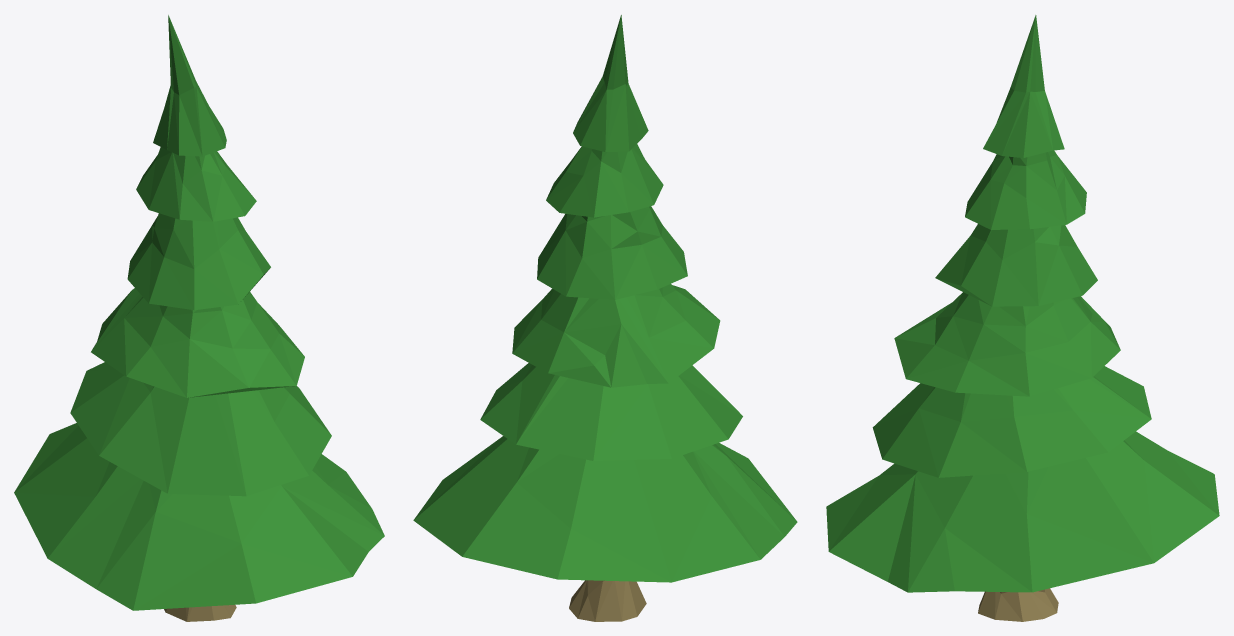
File: LowPoly - FirTree A Roots.fbx
The picture shows the model from 3 angles, left to right: view 1: azimuth 30°, elevation 25°; view 2: azimuth 150°, elevation 25°; view 3: azimuth 270°, elevation 25°; orthographic projection. The views are drawn at different scales.
Parts seen in each view (by area): view 1: TreeA_6, TreeA_5, TreeA_4, TreeA_3, TreeA_2, TreeA_1, TreeA_7; view 2: TreeA_6, TreeA_5, TreeA_4, TreeA_3, TreeA_2, TreeA_1, TreeA_7; view 3: TreeA_6, TreeA_5, TreeA_4, TreeA_3, TreeA_2, TreeA_1, TreeA_7.
Boxes of the visible parts, left/top/right/bottom form: TreeA_6: left=14, top=423, right=384, bottom=610; TreeA_5: left=70, top=362, right=331, bottom=496; TreeA_4: left=91, top=288, right=304, bottom=397; TreeA_3: left=127, top=213, right=270, bottom=310; TreeA_2: left=136, top=147, right=256, bottom=221; TreeA_1: left=153, top=15, right=226, bottom=156; TreeA_7: left=164, top=605, right=236, bottom=621; TreeA_6: left=413, top=436, right=797, bottom=582; TreeA_5: left=480, top=363, right=742, bottom=460; TreeA_4: left=512, top=284, right=720, bottom=387; TreeA_3: left=537, top=206, right=687, bottom=299; TreeA_2: left=546, top=144, right=663, bottom=217; TreeA_1: left=573, top=15, right=648, bottom=151; TreeA_7: left=569, top=580, right=646, bottom=621; TreeA_6: left=826, top=431, right=1219, bottom=592; TreeA_5: left=872, top=366, right=1151, bottom=477; TreeA_4: left=894, top=292, right=1120, bottom=396; TreeA_3: left=935, top=224, right=1097, bottom=306; TreeA_2: left=965, top=150, right=1086, bottom=229; TreeA_1: left=983, top=15, right=1064, bottom=157; TreeA_7: left=978, top=588, right=1058, bottom=621.
Size of the model in its own units: 514 by 953 by 581.
